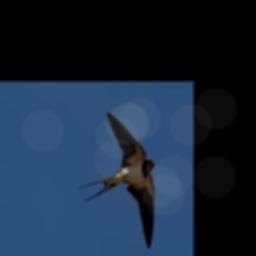Swallow: (78, 112, 156, 249)
